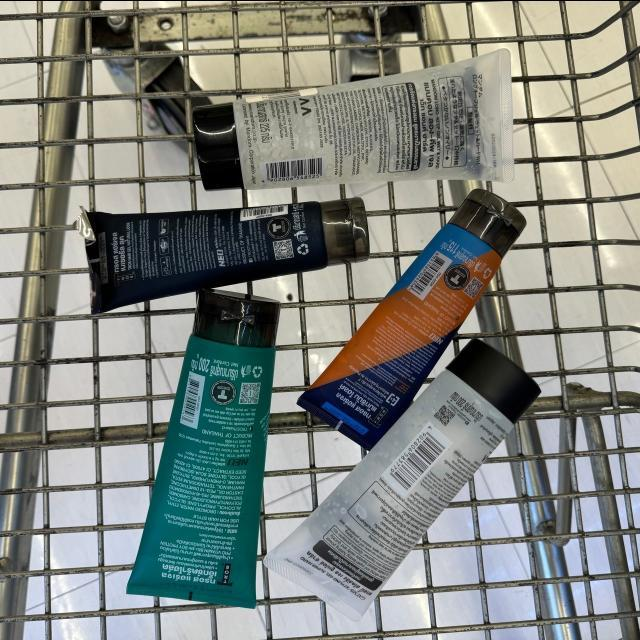Squeeze Tube: (261, 344, 549, 621), (294, 187, 535, 455), (129, 285, 283, 609), (189, 47, 510, 199), (80, 194, 378, 320)
